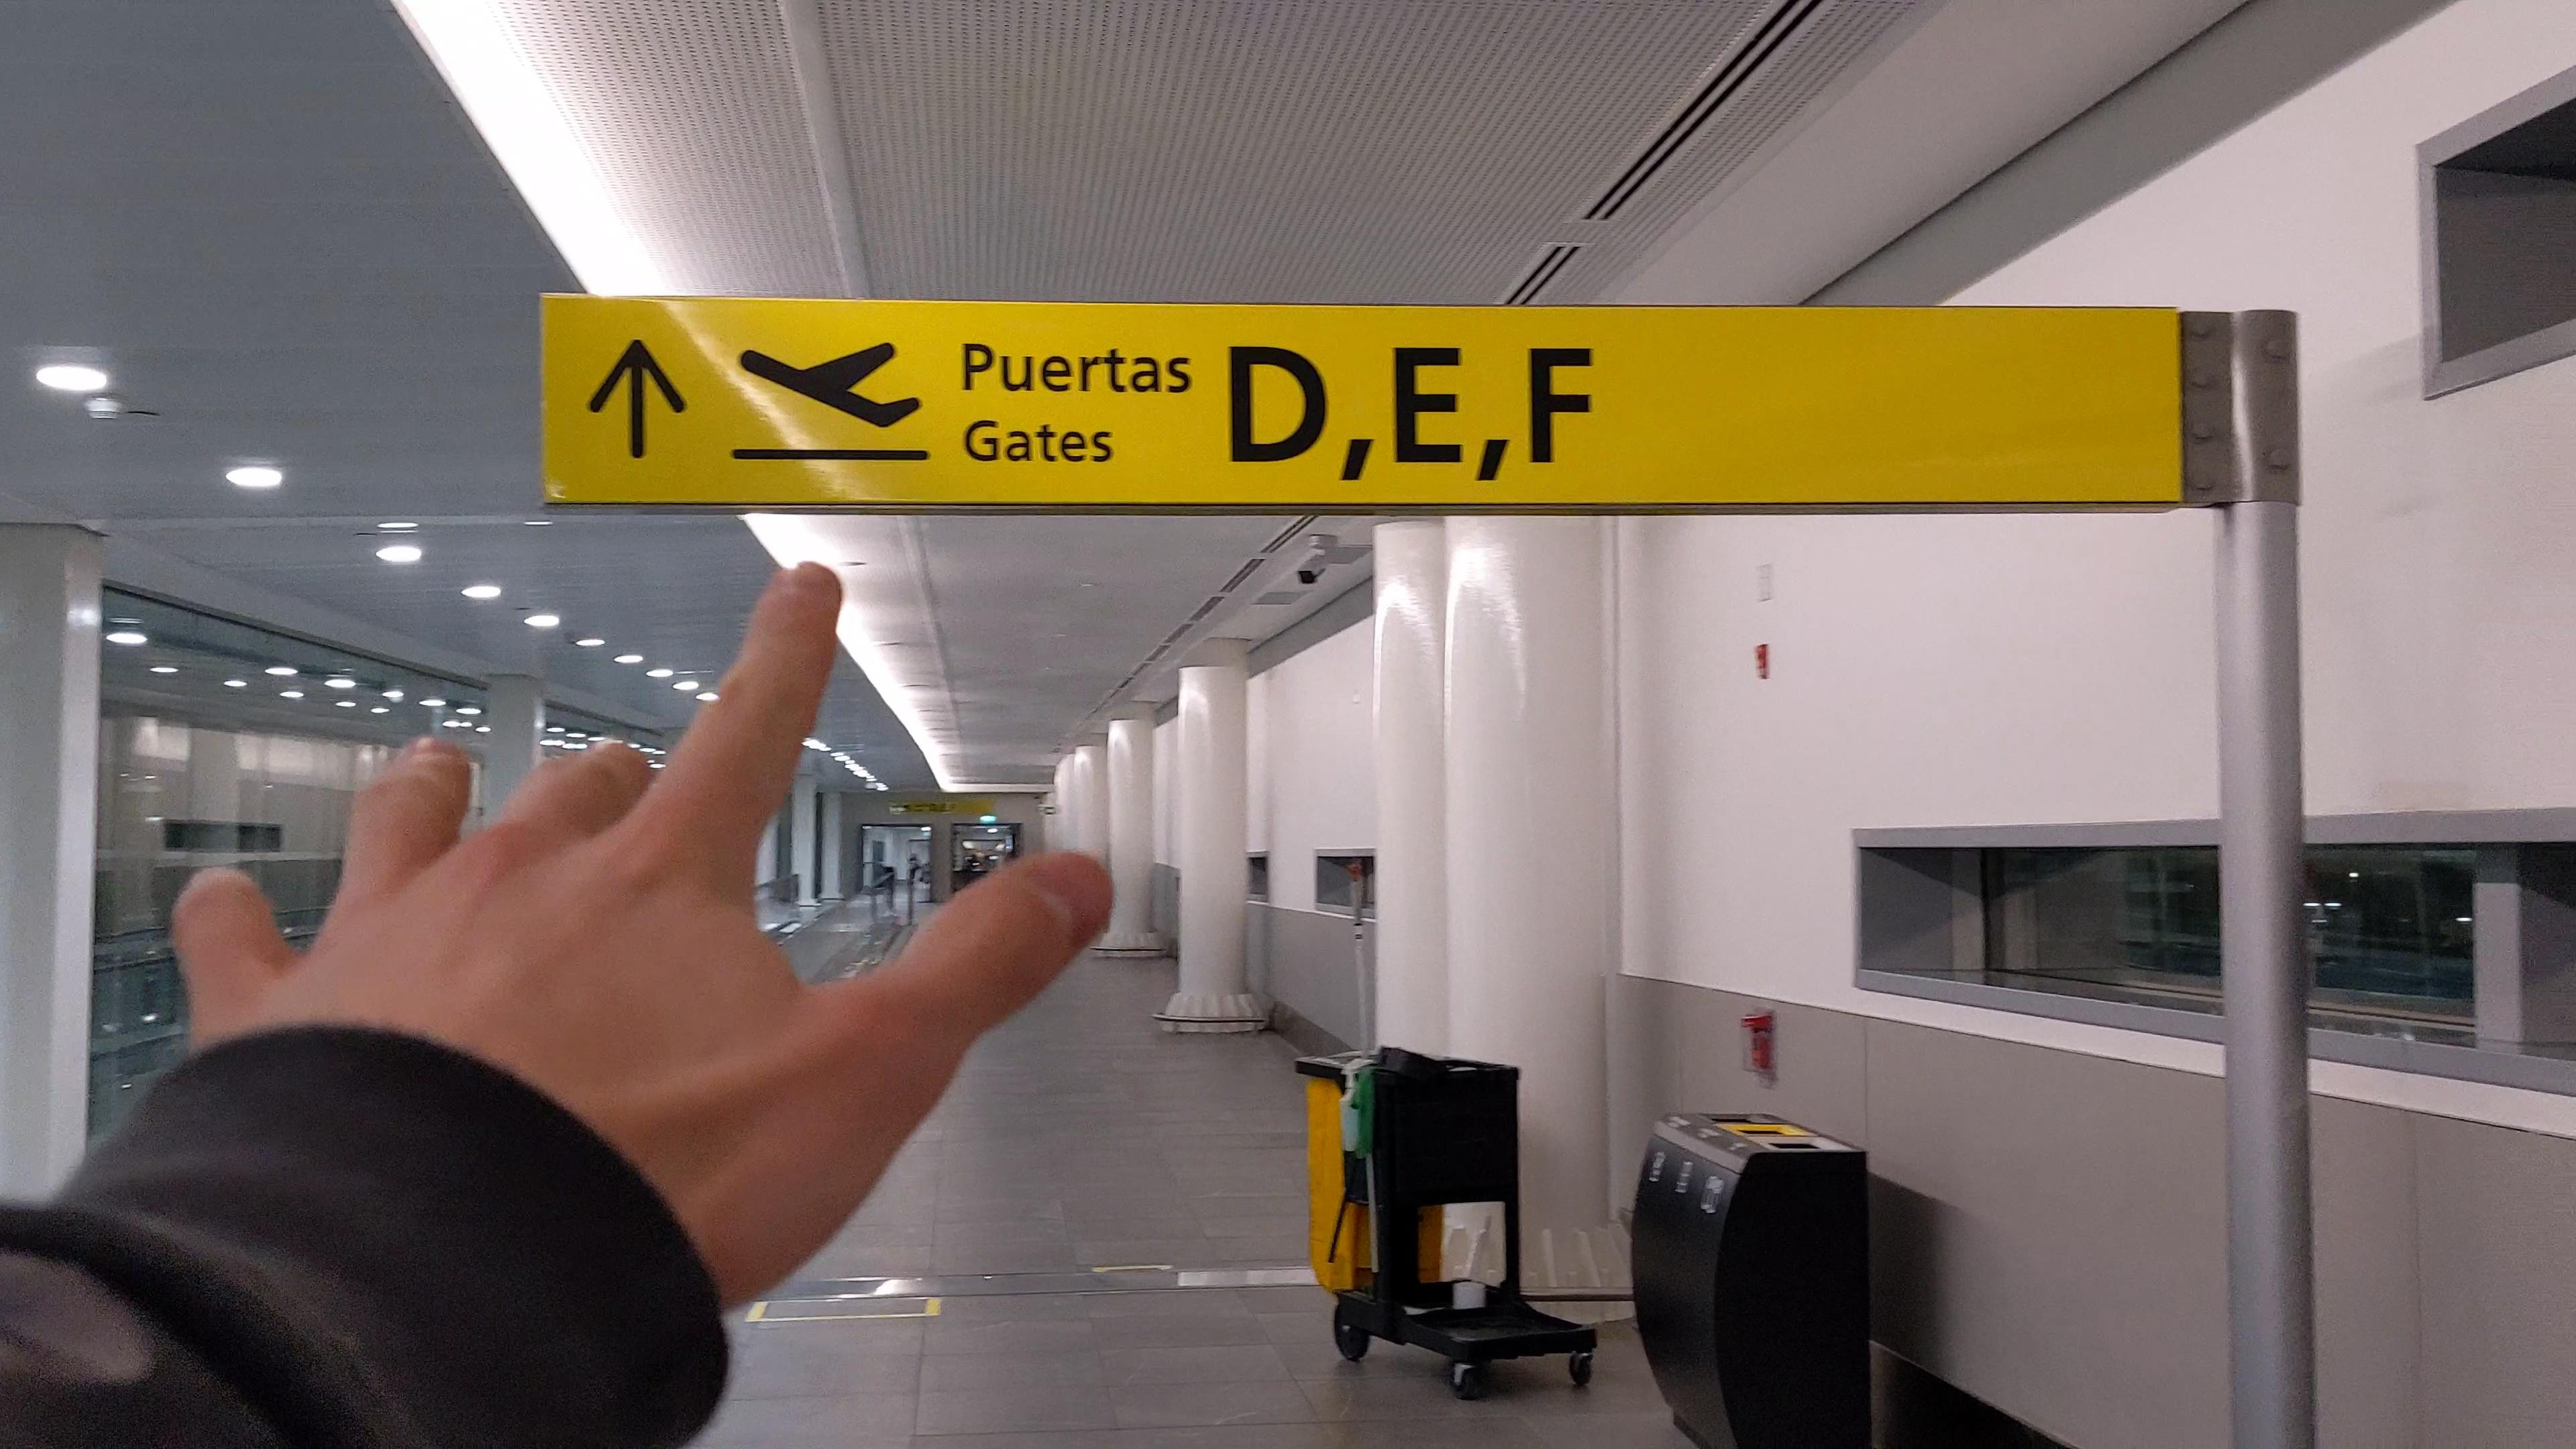airplane symbol: (736, 343, 943, 431)
thin up arrow: (580, 343, 704, 451)
